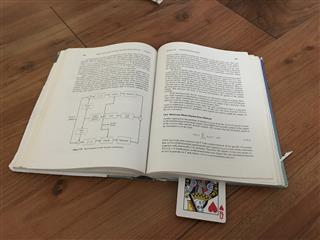QueenOfHearts: (175, 176, 227, 223)
